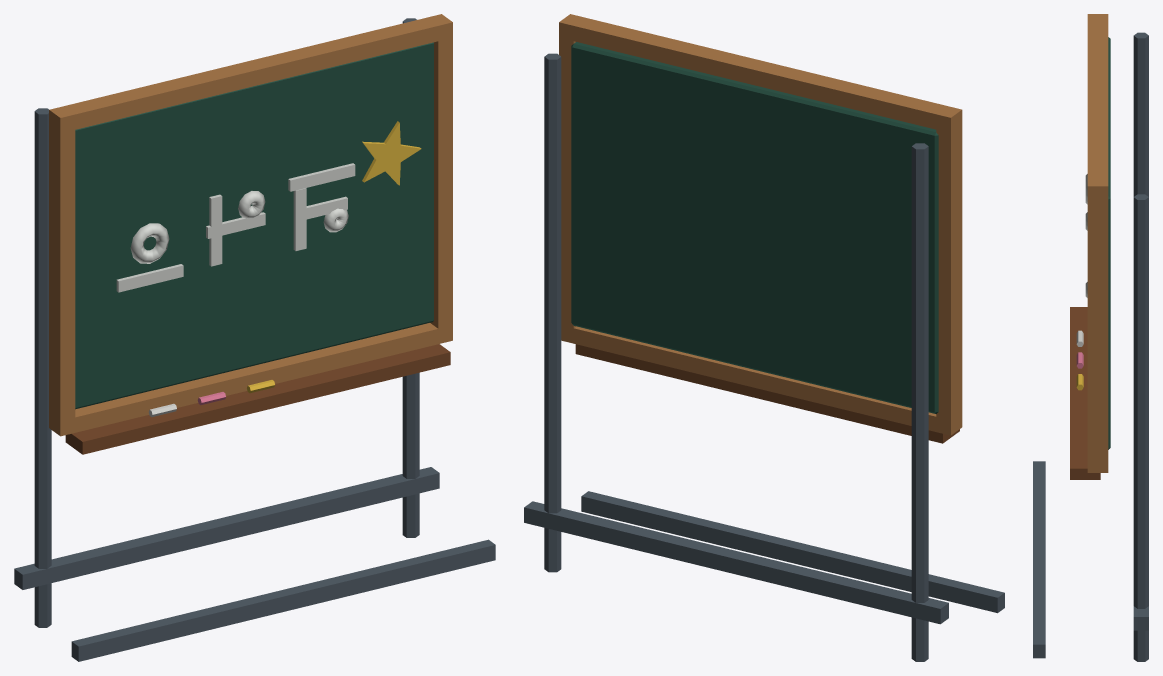
Rendered from decor_2.fbx.
3 views of the same model, side by side, from view 1: azimuth 30°, elevation 25°; view 2: azimuth 150°, elevation 25°; view 3: azimuth 270°, elevation 25° (orthographic). The views are drawn at different scales.
Visible parts, largest first — view 1: decor_2; view 2: decor_2; view 3: decor_2.
Part boxes in pixels (box(x1,y1,x2,y2)): decor_2: box(14, 14, 495, 661); decor_2: box(524, 14, 1004, 661); decor_2: box(1033, 14, 1148, 661).
Size of the model in its own units: 1.7 by 2.07 by 0.455.
